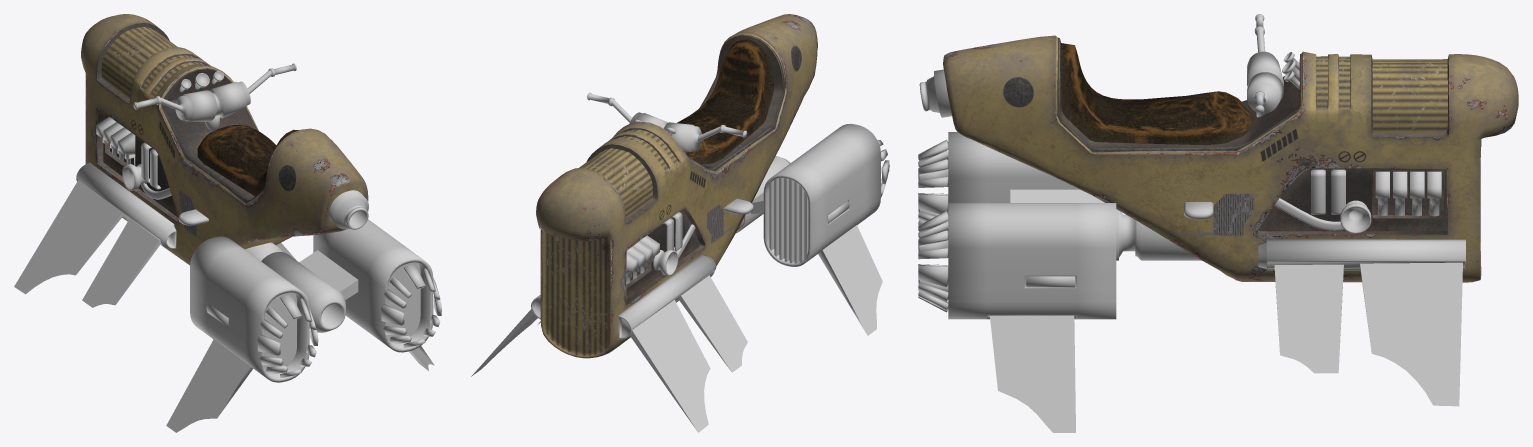
Rendered from Flying_Scooter_Retopo_Kuzov_LP.fbx.
The picture shows the model from 3 angles, left to right: view 1: azimuth 30°, elevation 25°; view 2: azimuth 150°, elevation 25°; view 3: azimuth 270°, elevation 25°; orthographic projection. The views are drawn at different scales.
Visible parts, largest first — view 1: BSurfaceMesh; view 2: BSurfaceMesh; view 3: BSurfaceMesh.
Boxes of the visible parts, left/top/right/bottom form: BSurfaceMesh: left=14, top=14, right=441, bottom=432; BSurfaceMesh: left=471, top=14, right=889, bottom=432; BSurfaceMesh: left=918, top=14, right=1518, bottom=432.
Size of the model in its own units: 172 by 177 by 300.
